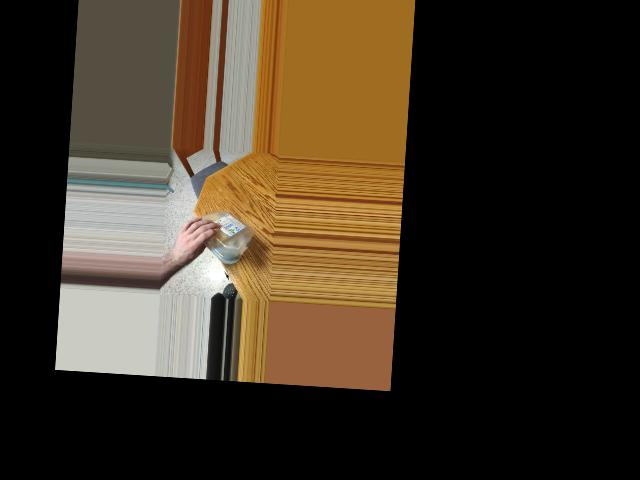cheese: (185, 207, 255, 262)
